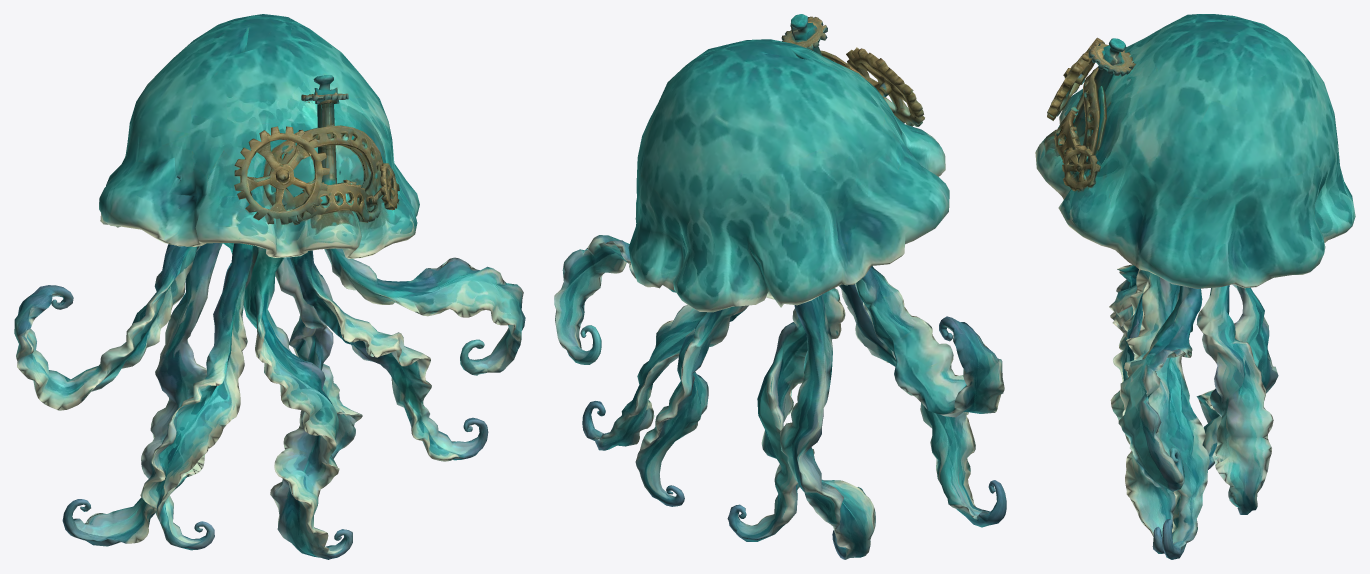
Rendered from enemy_jellyfish.glb.
3 renders of one model, left to right at view 1: azimuth 30°, elevation 25°; view 2: azimuth 150°, elevation 25°; view 3: azimuth 270°, elevation 25°, orthographic. The views are drawn at different scales.
Size of the model in its own units: 0.9097 by 0.9507 by 0.5434.
1 material, 1 textured.
